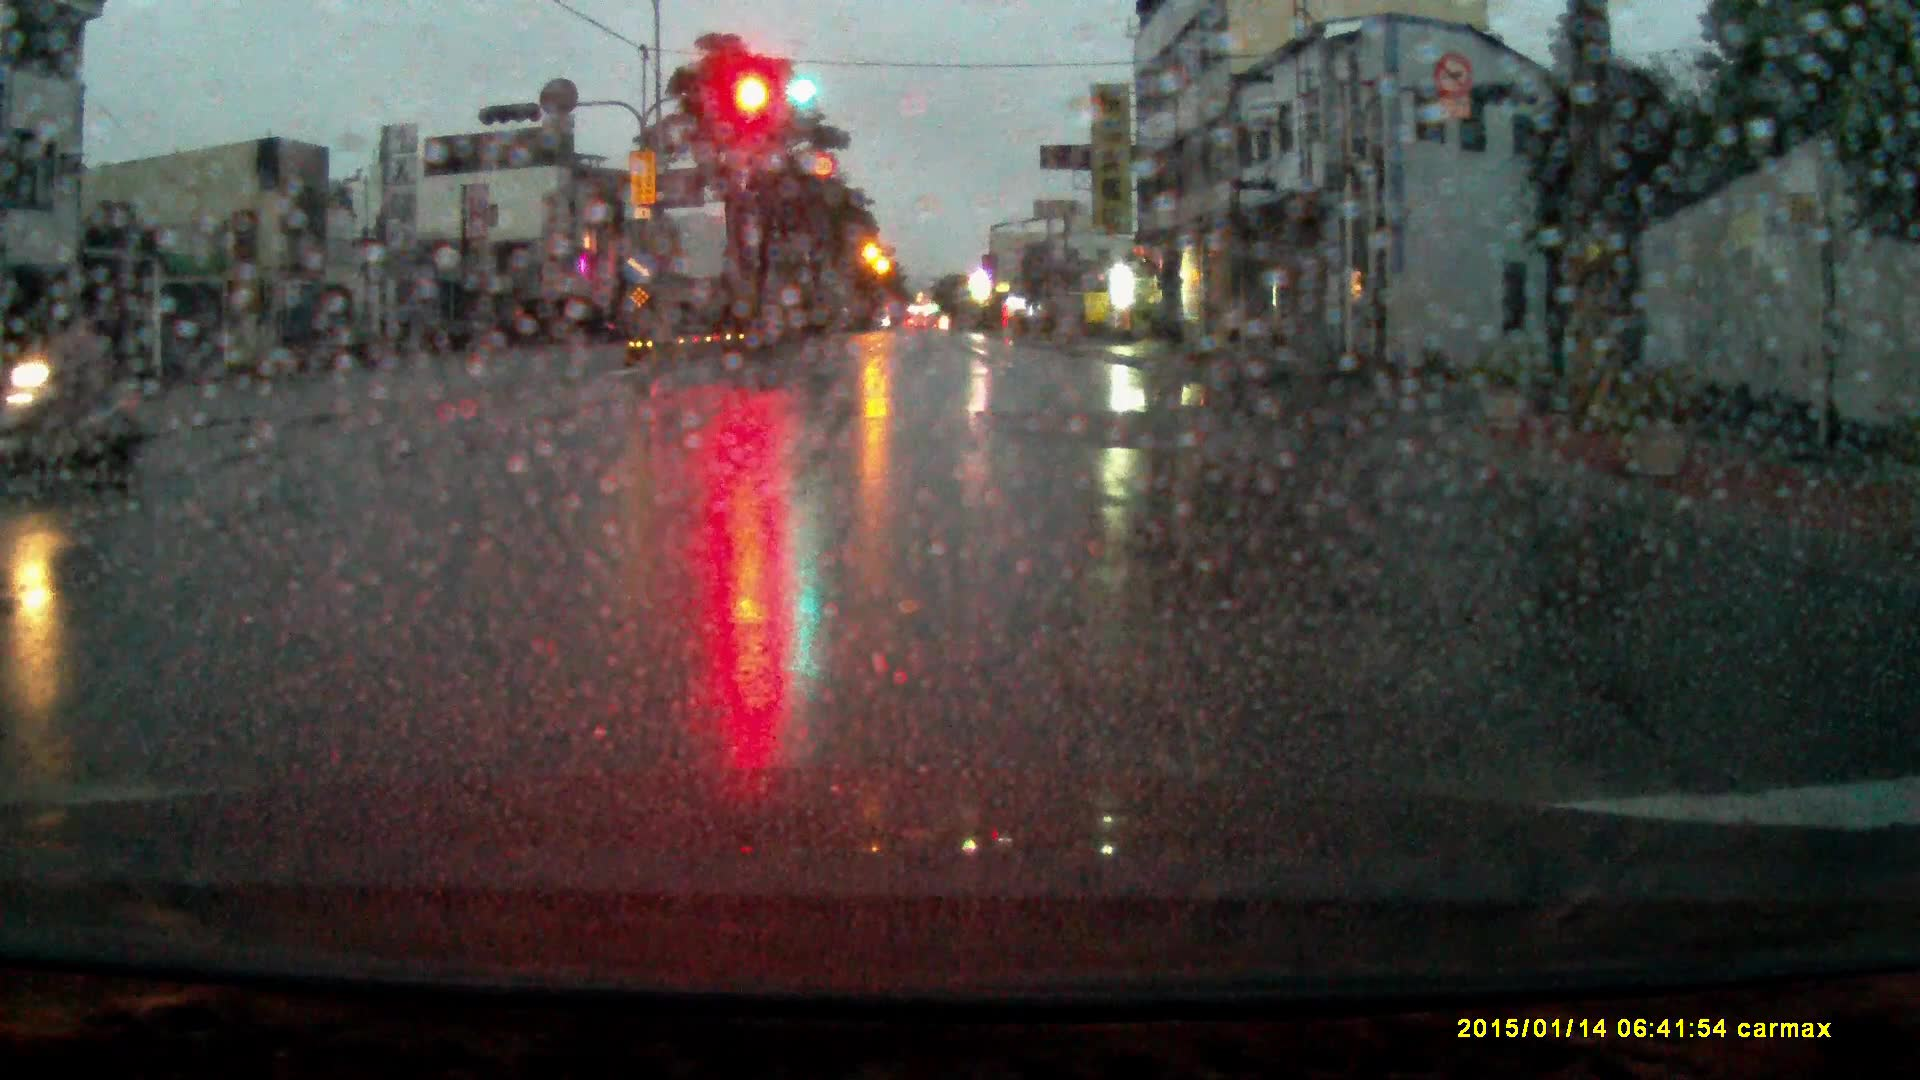rider: (1, 309, 154, 495)
